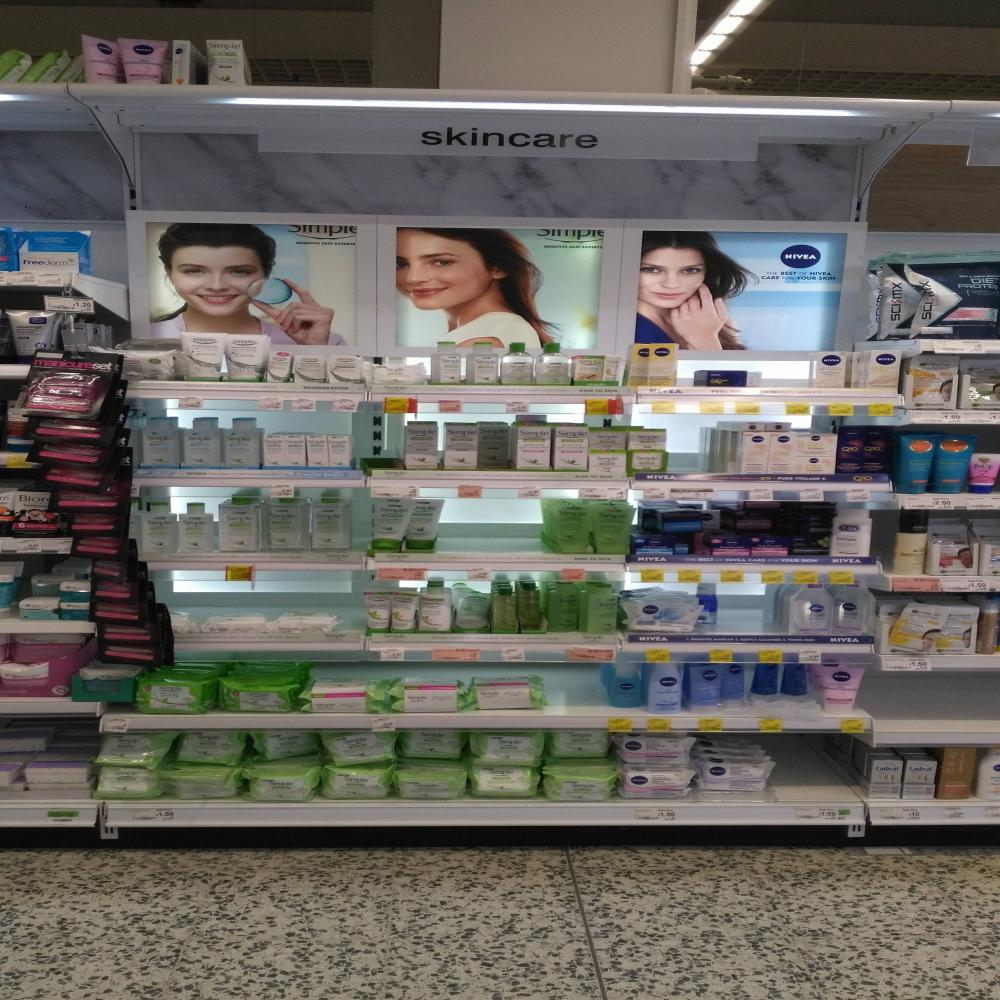shelf: (0, 798, 1000, 827), (124, 379, 904, 404), (100, 714, 1000, 733), (137, 473, 892, 491), (107, 640, 878, 656), (144, 558, 877, 574), (886, 574, 1000, 594), (879, 653, 1000, 671), (0, 696, 98, 715), (0, 532, 92, 552), (891, 493, 1000, 509), (0, 366, 123, 380), (0, 269, 75, 290), (900, 409, 1000, 424), (0, 620, 93, 633), (919, 340, 1000, 352)
